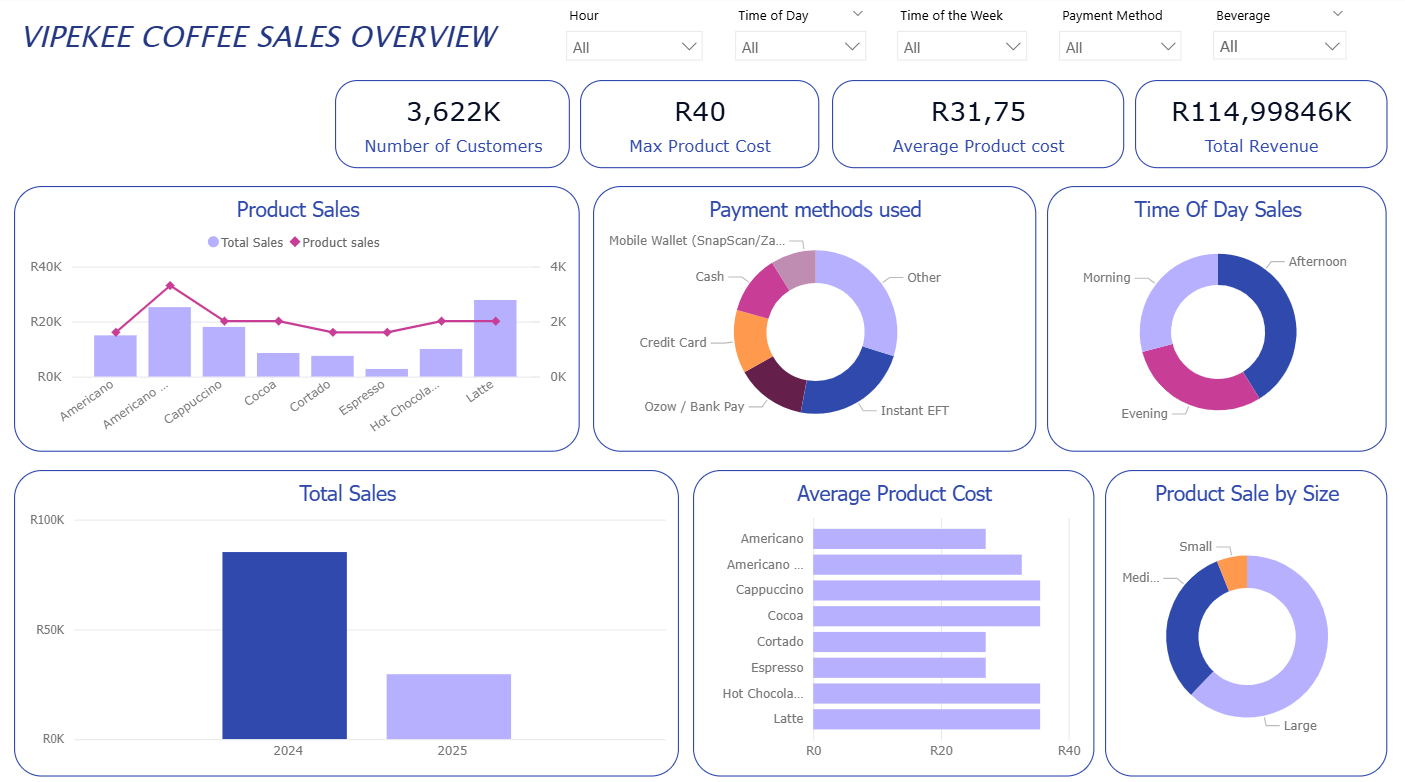

The dashboard page shown, as its layout file describes it:
{"tool":"powerbi","page":{"name":"Overview","canvas":[1280,720],"ordinal":0},"visuals":[{"type":"clusteredColumnChart","title":"Total Sales","fields":{"Y":["Sum(Dim_Payment.money)"],"Category":["Dim_Payment.Year","Coffee_Shop_Facts.Month Name","Dim_Payment.Day"]},"box":[18.1,429.8,603,278.4],"z":0},{"type":"lineStackedColumnComboChart","title":"Product Sales ","fields":{"Category":["Dim_beverages.coffee_name"],"Y":["Sum(Dim_beverages.money)"],"Y2":["CountNonNull(Coffee_Shop_Facts.PaymentMethod)"]},"box":[18.1,172.3,513.2,241.2],"z":1000},{"type":"slicer","fields":{"Values":["Dim_Payment.Day_Type"]},"box":[780,3.6,145.1,65.3],"z":2000},{"type":"donutChart","title":"Time Of Day Sales","fields":{"Category":["Dim_time.TimeOfDay"],"Y":["Sum(Coffee_Shop_Facts.money)"]},"box":[954.9,172.3,308.3,241.2],"z":3000},{"type":"slicer","fields":{"Values":["Dim_time.TimeOfDay"]},"box":[621.2,3.6,149.6,65.3],"z":4000},{"type":"slicer","fields":{"Values":["Coffee_Shop_Facts.PaymentMethod"]},"box":[934.4,3.6,142.4,65.3],"z":5000},{"type":"donutChart","title":"Payment methods used ","fields":{"Category":["Coffee_Shop_Facts.PaymentMethod"],"Y":["CountNonNull(Coffee_Shop_Facts.PaymentMethod)"]},"box":[543.2,172.3,401.7,241.2],"z":6000},{"type":"barChart","title":"Average Product Cost ","fields":{"Category":["Dim_beverages.coffee_name"],"Y":["Avg(Coffee_Shop_Facts.money)"]},"box":[633.9,429.8,363.6,278.4],"z":7000},{"type":"cardVisual","fields":{"Data":["Sum(Coffee_Shop_Facts.money)"]},"box":[1034.7,76.2,228.5,79.8],"z":8000},{"type":"cardVisual","fields":{"Data":["Avg(Coffee_Shop_Facts.money)"]},"box":[759.9,76.2,264.8,79.8],"z":9000},{"type":"cardVisual","fields":{"Data":["Max(Coffee_Shop_Facts.money)"]},"box":[531.4,76.2,216.7,79.8],"z":10000},{"type":"cardVisual","fields":{"Data":["CountNonNull(Coffee_Shop_Facts.card)"]},"box":[309.2,76.2,213.1,79.8],"z":11000},{"type":"slicer","fields":{"Values":["Coffee_Shop_Facts.coffee_name"]},"box":[1086,4,150,65],"z":12000},{"type":"donutChart","title":"Product Sale by Size","fields":{"Category":["Coffee_Shop_Facts.size"],"Y":["Sum(Coffee_Shop_Facts.money)"]},"box":[1007.5,429.8,255.7,278.4],"z":13000},{"type":"textbox","box":[18.1,12.7,457.9,56.2],"z":13001}]}

Visuals, with their boxes in screenshot pixels (x1, y1, x2, y2), scaled from the page's 1280x720 canvas onto the 1405x782 screenshot:
"Total Sales" clusteredColumnChart: box=[20, 467, 682, 769]
"Product Sales " lineStackedColumnComboChart: box=[20, 187, 583, 449]
slicer - Dim_Payment.Day_Type: box=[856, 4, 1015, 75]
"Time Of Day Sales" donutChart: box=[1048, 187, 1387, 449]
slicer - Dim_time.TimeOfDay: box=[682, 4, 846, 75]
slicer - Coffee_Shop_Facts.PaymentMethod: box=[1026, 4, 1182, 75]
"Payment methods used " donutChart: box=[596, 187, 1037, 449]
"Average Product Cost " barChart: box=[696, 467, 1095, 769]
cardVisual - Sum(Coffee_Shop_Facts.money): box=[1136, 83, 1387, 169]
cardVisual - Avg(Coffee_Shop_Facts.money): box=[834, 83, 1125, 169]
cardVisual - Max(Coffee_Shop_Facts.money): box=[583, 83, 821, 169]
cardVisual - CountNonNull(Coffee_Shop_Facts.card): box=[339, 83, 573, 169]
slicer - Coffee_Shop_Facts.coffee_name: box=[1192, 4, 1357, 75]
"Product Sale by Size" donutChart: box=[1106, 467, 1387, 769]
textbox: box=[20, 14, 522, 75]
